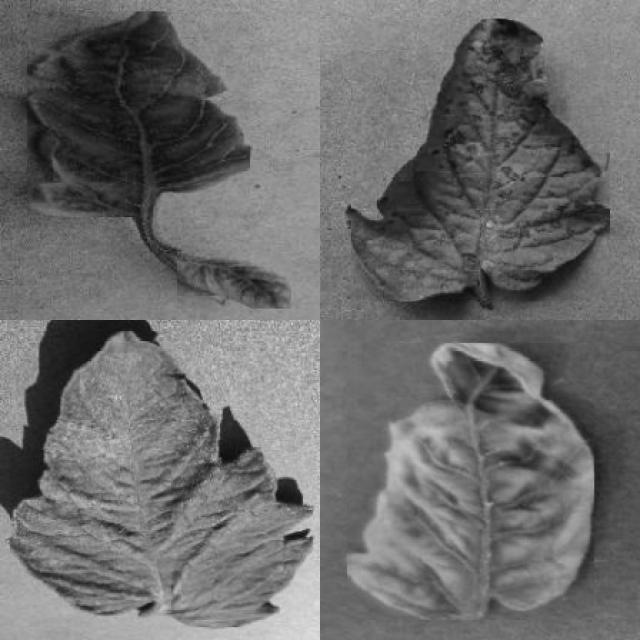Early Blight: (350, 18, 610, 302)
Septoria: (10, 330, 313, 627)
Yellow Leaf Curl Virus: (347, 343, 594, 620), (27, 12, 250, 218), (178, 252, 291, 309)
